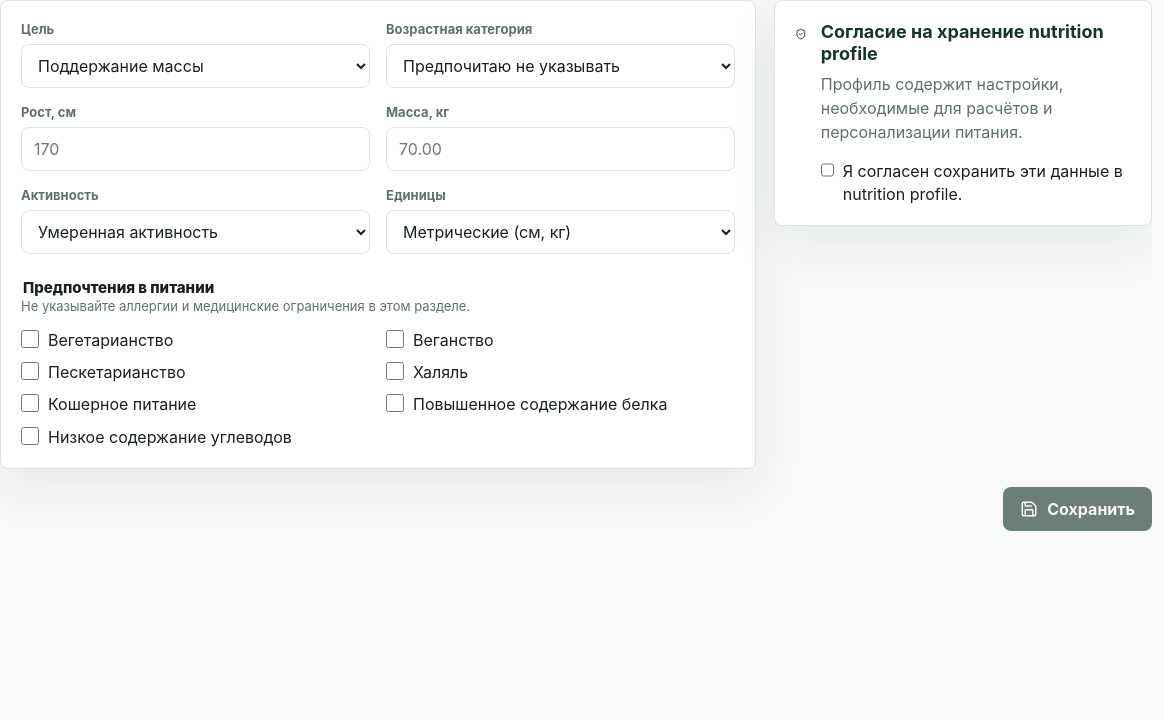
Test: NutritionProfileForm › loads and saves the own profile only after explicit consent
The image size is (1164, 720).
Expected: the button "Сохранить" is disabled, [1003, 487, 1152, 531]
Select "Снижение массы" in the dropdown labelled "Цель" at [196, 66], box [21, 44, 370, 88]
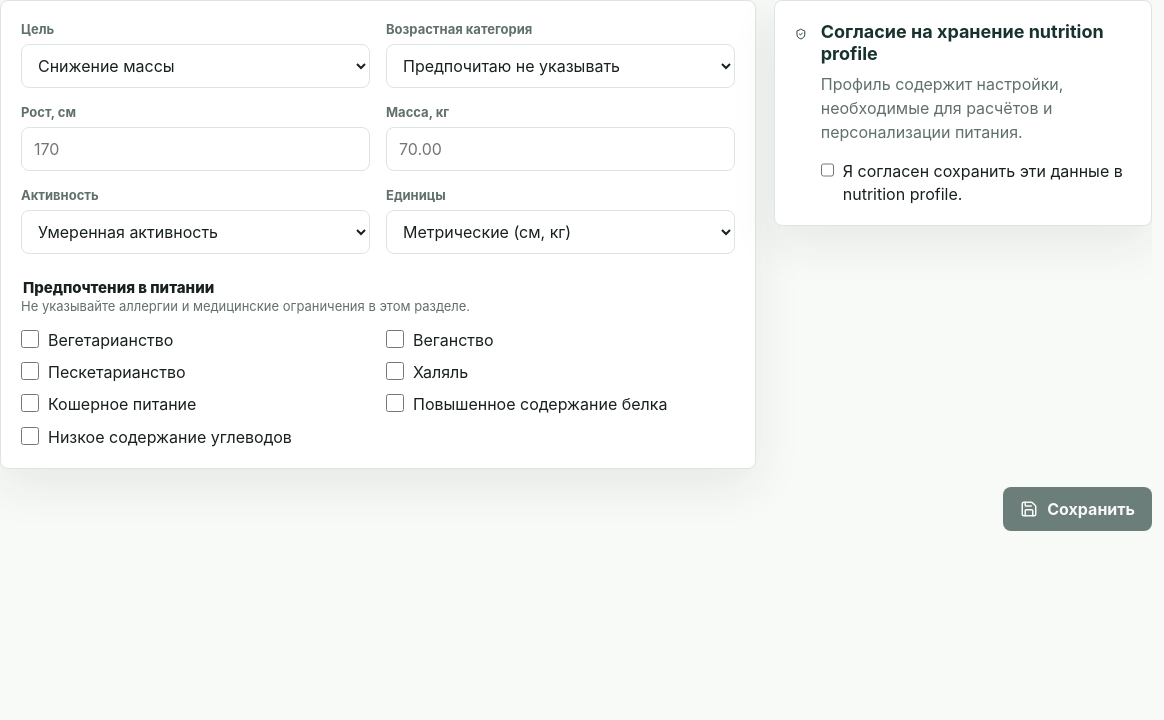
Type "181" into the number field labelled "Рост, см" at [196, 149], box [21, 127, 370, 171]
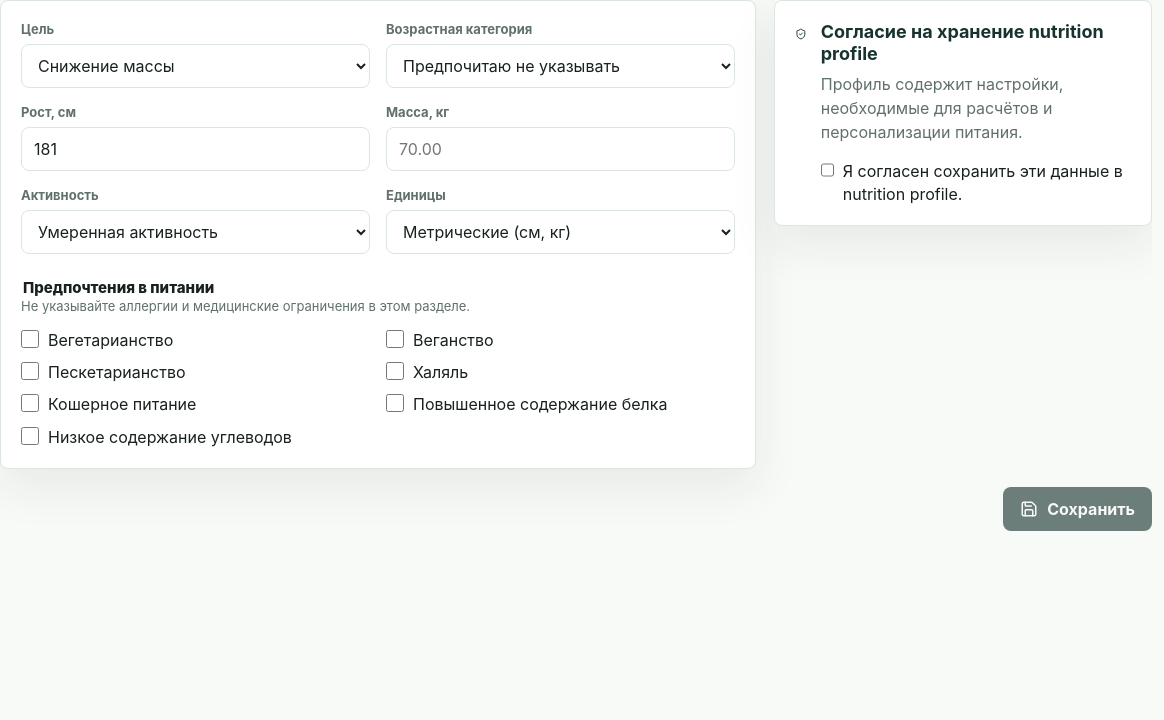
Type "82.40" into the number field labelled "Масса, кг" at [560, 149], box [386, 127, 735, 171]
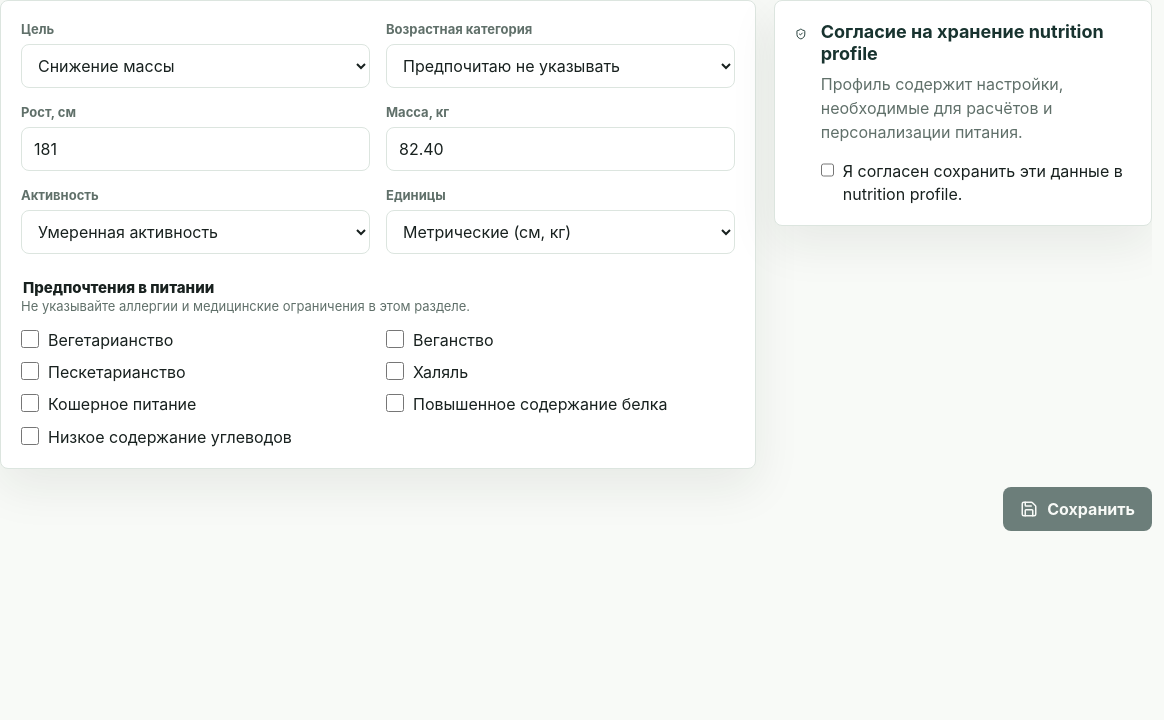
Click the checkbox labelled "Я согласен сохранить эти данные в nutrition profile." at [827, 170], box [821, 161, 834, 179]
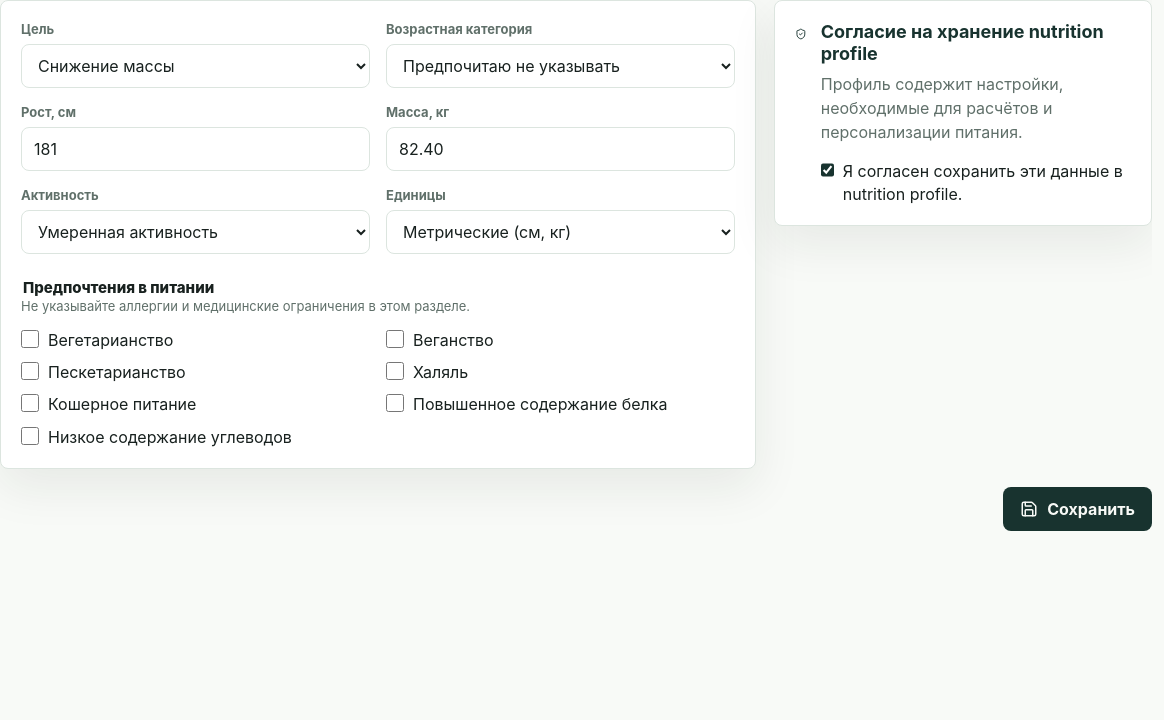
Submit the form named "Сохранить"
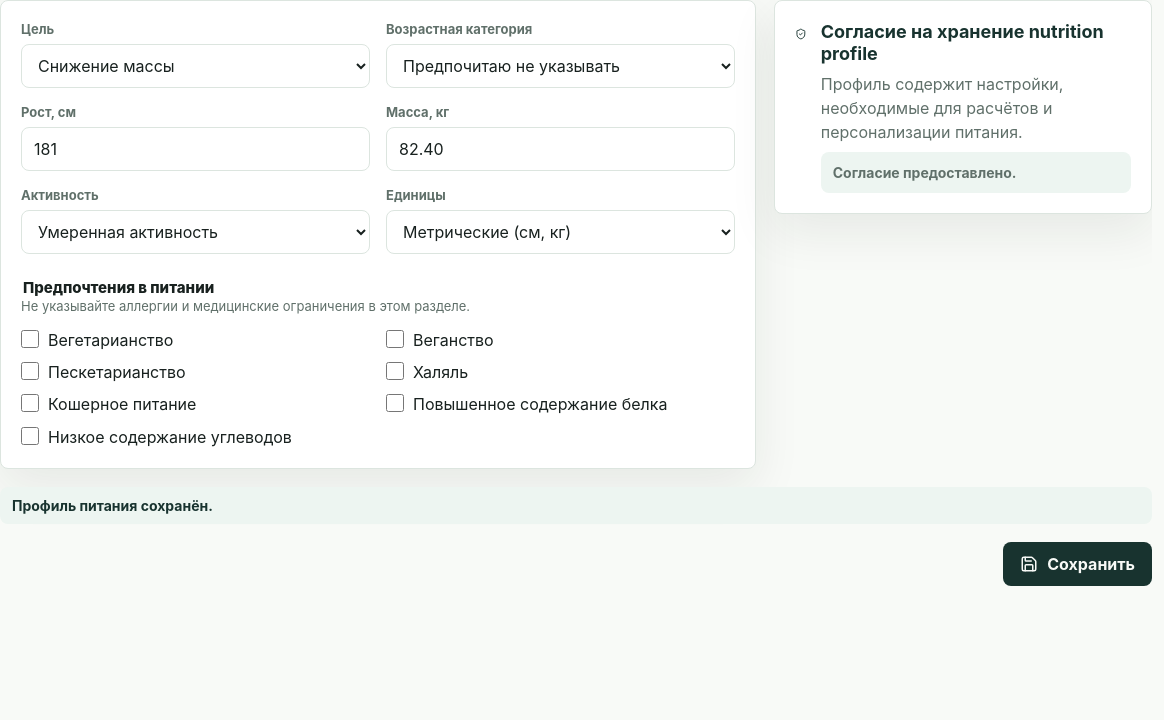
Result: the text "Профиль питания сохранён." is shown at [0, 487, 1152, 524]
